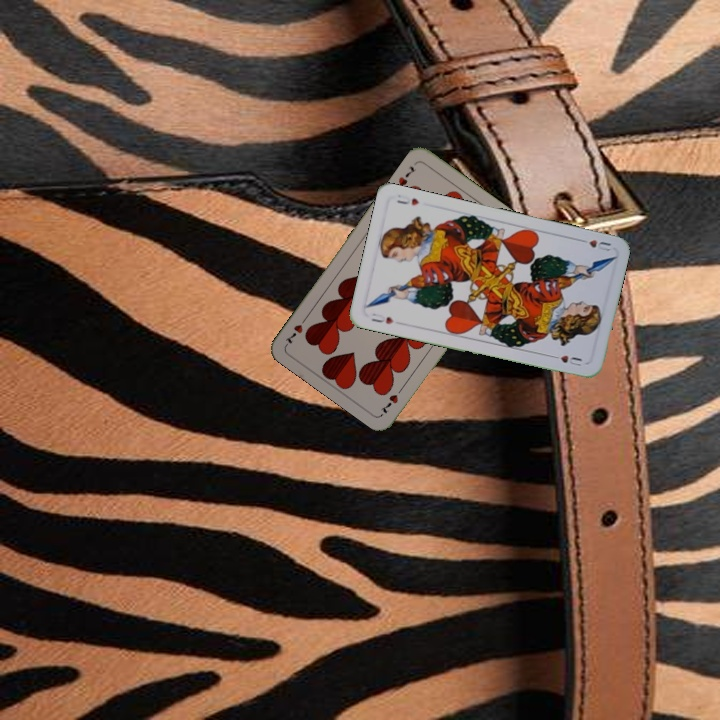H7: (377, 382, 406, 416), (394, 161, 419, 189)
HU: (574, 235, 613, 254), (367, 309, 396, 327)
